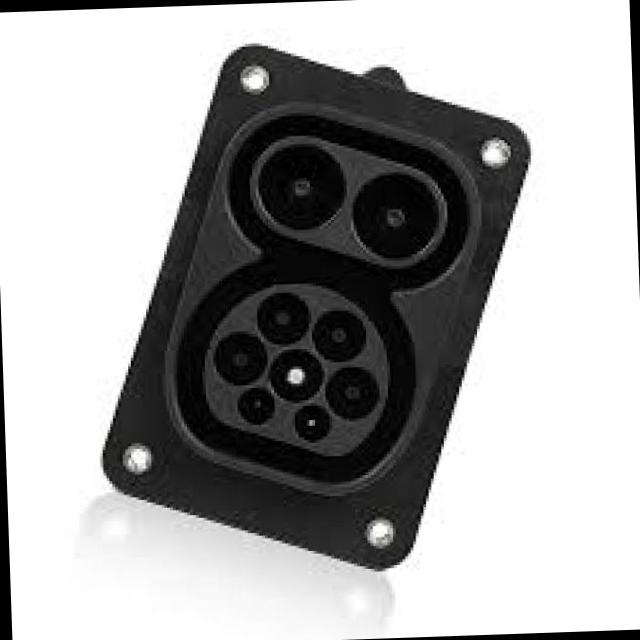inlet: (200, 282, 388, 454)
inlet-above-left: (293, 405, 329, 442)
inlet-above-right: (235, 388, 273, 424)
inlet-below-left: (310, 308, 364, 361)
inlet-below-right: (254, 291, 310, 346)
inlet-center: (267, 347, 324, 403)
inlet-center-left: (325, 363, 377, 421)
inlet-center-right: (213, 331, 266, 384)
